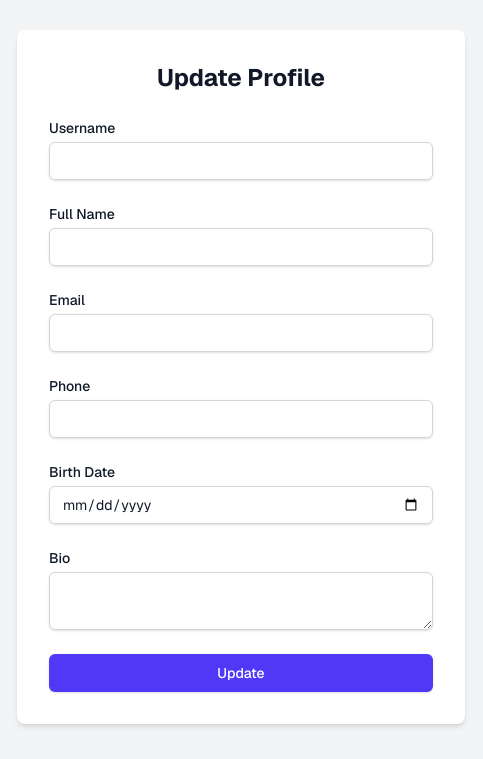
Scenario: ProfilePage › should show validation error for short phone number
Type "validuser" into the field labelled "Username". click: (241, 161)
box: [49, 142, 433, 180]
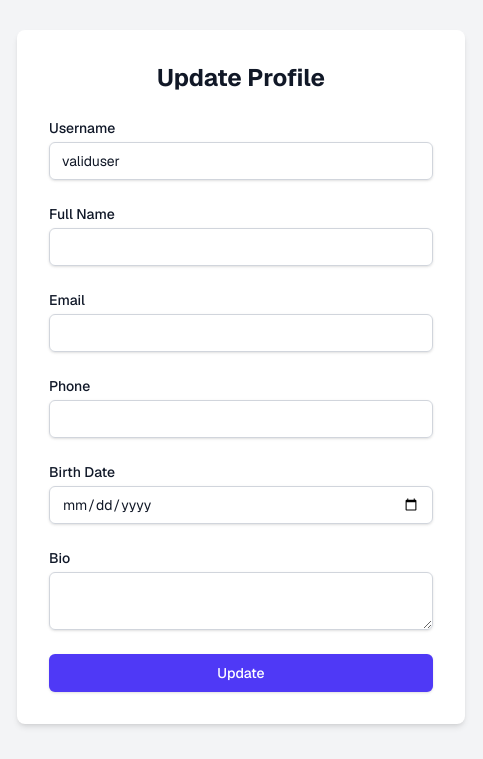
Type "John Doe" into the field labelled "Full Name". click: (241, 247)
box: [49, 228, 433, 266]
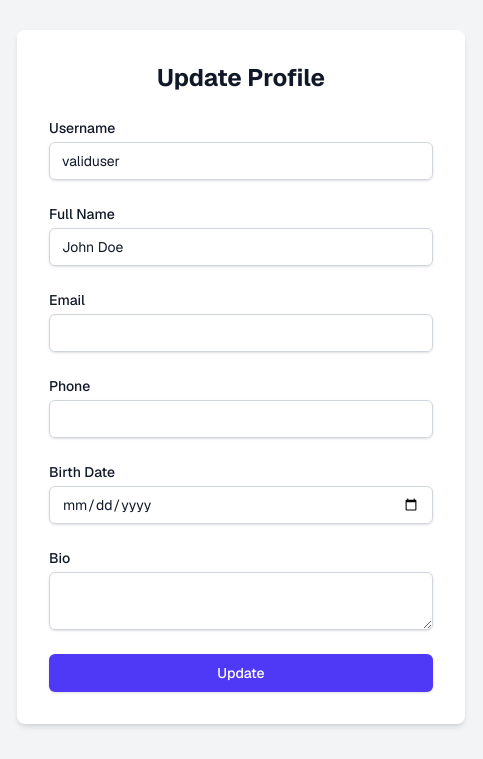
Type "john@example.com" into the field labelled "Email". click: (241, 333)
box: [49, 314, 433, 352]
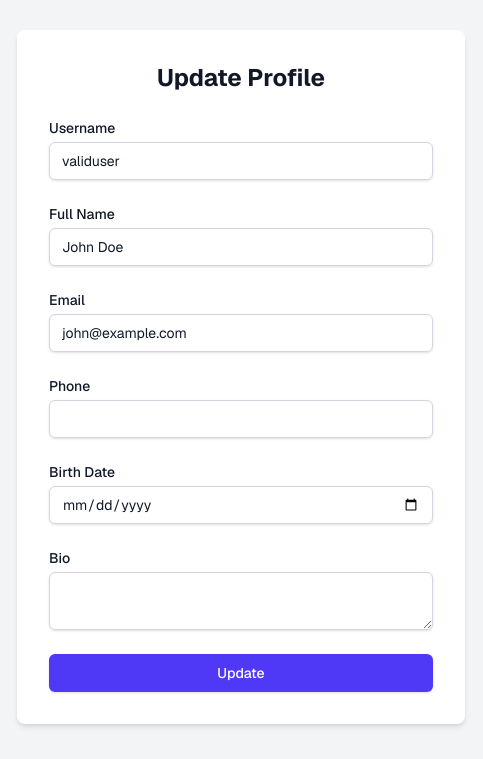
Type "123" into the field labelled "Phone". click: (241, 419)
box: [49, 400, 433, 438]
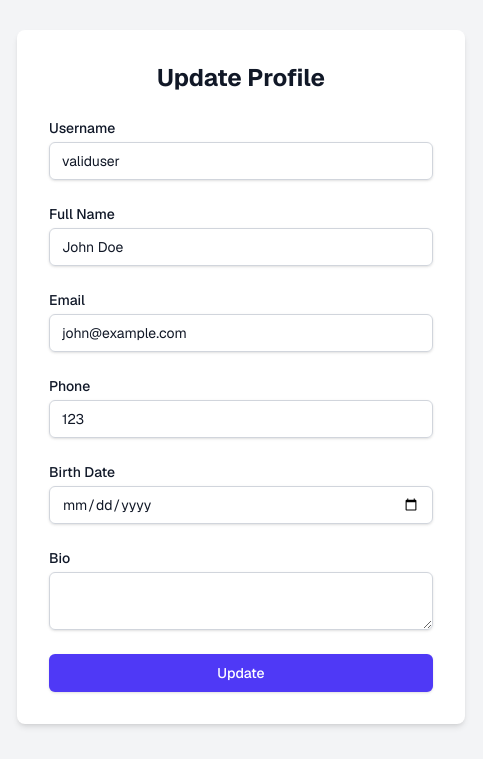
Click the button "Update". click: (241, 673)
box: [49, 654, 433, 692]
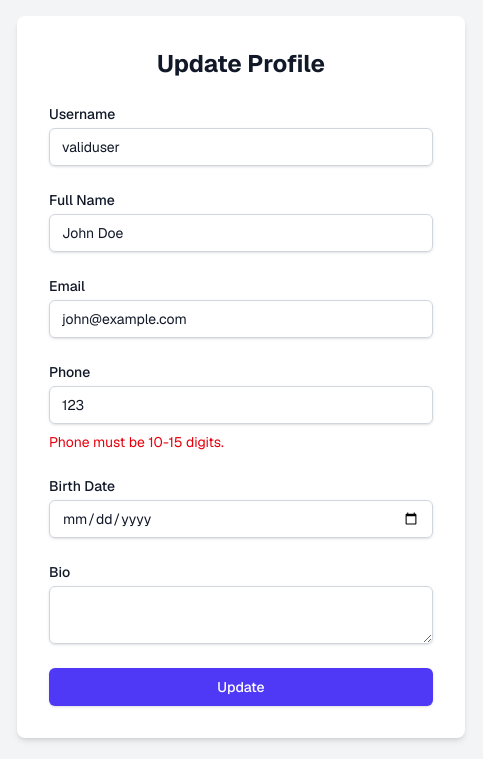
Expected: the text "Phone must be 10-15 digits." is shown, [49, 433, 224, 451]
